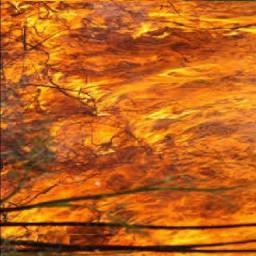Large fire: (1, 2, 256, 256)
